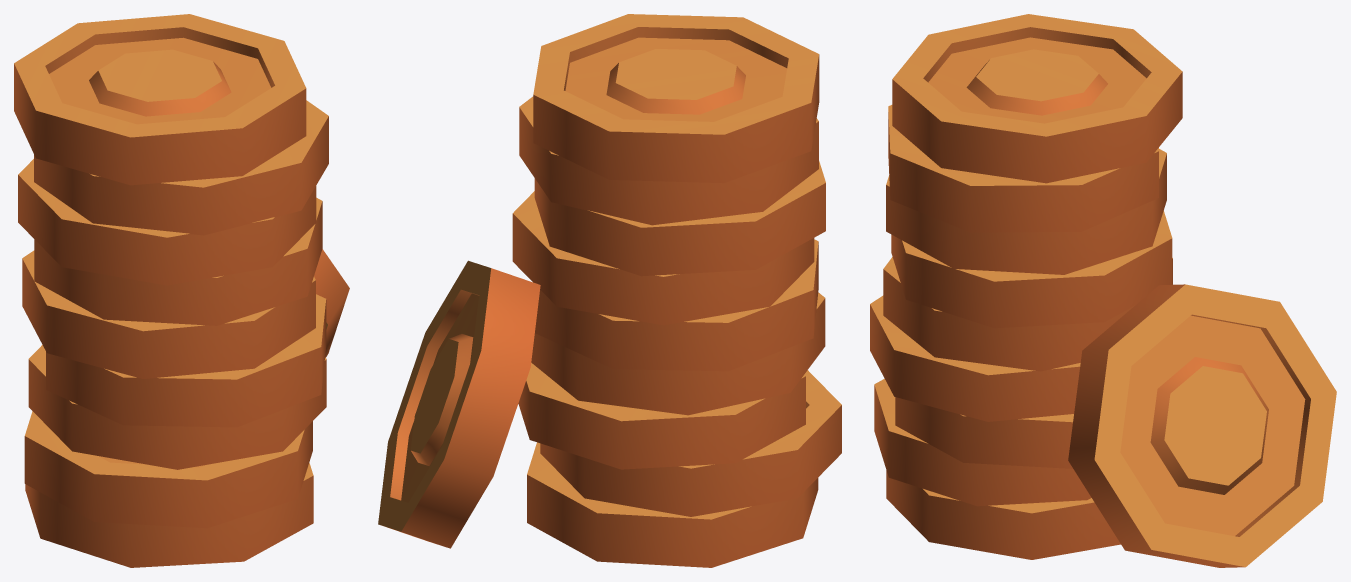
File: Coin_Pile1.fbx
The picture shows the model from 3 angles, left to right: view 1: azimuth 30°, elevation 25°; view 2: azimuth 150°, elevation 25°; view 3: azimuth 270°, elevation 25°; orthographic projection. The views are drawn at different scales.
Visible parts, largest first — view 1: Coin_Pile1; view 2: Coin_Pile1; view 3: Coin_Pile1.
Boxes of the visible parts, x1,y1,x2,y2 form: Coin_Pile1: (14, 14, 349, 567); Coin_Pile1: (378, 14, 841, 567); Coin_Pile1: (870, 14, 1336, 567).
Bounding box in the file's own units: 34.98 × 40.51 × 40.78.
